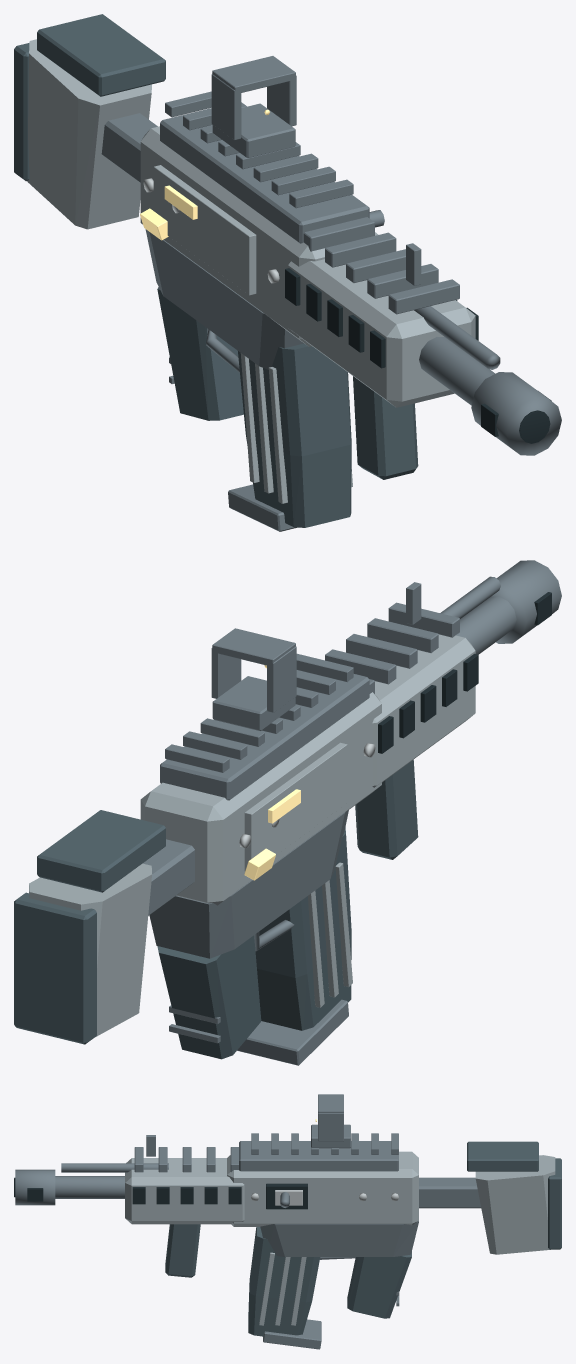
The model's file is whisker.glb.
3 renders of one model, top to bottom at view 1: azimuth 30°, elevation 25°; view 2: azimuth 150°, elevation 25°; view 3: azimuth 270°, elevation 25°, orthographic. The views are drawn at different scales.
Parts seen in each view (by area): view 1: stock_23, magazine_59, handguard_28, receiver_1, receiver_lower_2, receiver_top_cover_3, cheek_rest_25, pistol_grip_17, receiver_side_plate_4, foregrip_44, muzzle_brake_53, barrel_26 (+23 smaller); view 2: receiver_1, stock_pad_24, receiver_lower_2, stock_23, magazine_59, pistol_grip_17, handguard_28, receiver_top_cover_3, cheek_rest_25, receiver_side_plate_4, foregrip_44, magazine_base_60 (+21 smaller); view 3: receiver_1, handguard_28, stock_23, receiver_lower_2, magazine_59, receiver_top_cover_3, pistol_grip_17, cheek_rest_25, stock_beam_22, foregrip_44, barrel_26, muzzle_brake_53 (+11 smaller).
Part boxes in pixels (x1=…): stock_23: x1=27, y1=39, x2=151, y2=229; magazine_59: x1=238, y1=343, x2=351, y2=527; handguard_28: x1=288, y1=259, x2=475, y2=407; receiver_1: x1=140, y1=126, x2=378, y2=346; receiver_lower_2: x1=145, y1=229, x2=303, y2=369; receiver_top_cover_3: x1=160, y1=108, x2=369, y2=243; cheek_rest_25: x1=37, y1=14, x2=165, y2=96; pistol_grip_17: x1=157, y1=287, x2=243, y2=420; receiver_side_plate_4: x1=153, y1=165, x2=256, y2=295; foregrip_44: x1=353, y1=376, x2=418, y2=479; muzzle_brake_53: x1=471, y1=372, x2=561, y2=455; barrel_26: x1=419, y1=337, x2=495, y2=405; receiver_1: x1=140, y1=692, x2=381, y2=905; stock_pad_24: x1=14, y1=892, x2=96, y2=1044; receiver_lower_2: x1=149, y1=810, x2=348, y2=958; stock_23: x1=29, y1=863, x2=152, y2=1037; magazine_59: x1=255, y1=827, x2=351, y2=1030; pistol_grip_17: x1=157, y1=935, x2=261, y2=1059; handguard_28: x1=372, y1=634, x2=475, y2=787; receiver_top_cover_3: x1=160, y1=670, x2=369, y2=800; cheek_rest_25: x1=37, y1=810, x2=165, y2=892; receiver_side_plate_4: x1=244, y1=742, x2=347, y2=871; foregrip_44: x1=355, y1=759, x2=418, y2=859; magazine_base_60: x1=237, y1=999, x2=348, y2=1065; receiver_1: x1=227, y1=1151, x2=418, y2=1226; handguard_28: x1=125, y1=1158, x2=244, y2=1224; stock_23: x1=475, y1=1155, x2=555, y2=1254; receiver_lower_2: x1=260, y1=1221, x2=418, y2=1256; magazine_59: x1=248, y1=1227, x2=320, y2=1336; receiver_top_cover_3: x1=239, y1=1141, x2=398, y2=1171; pistol_grip_17: x1=347, y1=1252, x2=411, y2=1318; cheek_rest_25: x1=467, y1=1141, x2=538, y2=1171; stock_beam_22: x1=419, y1=1177, x2=481, y2=1208; foregrip_44: x1=165, y1=1224, x2=200, y2=1277; barrel_26: x1=55, y1=1176, x2=124, y2=1198; muzzle_brake_53: x1=15, y1=1169, x2=55, y2=1205.
Bounding box in the file's own units: 0.2365 × 0.6552 × 1.37.
